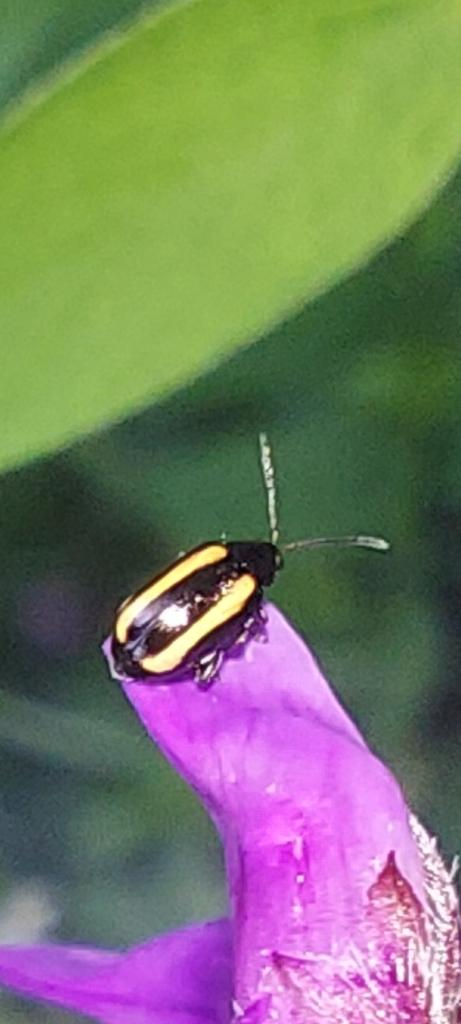flea_beetle: (62, 413, 404, 759)
